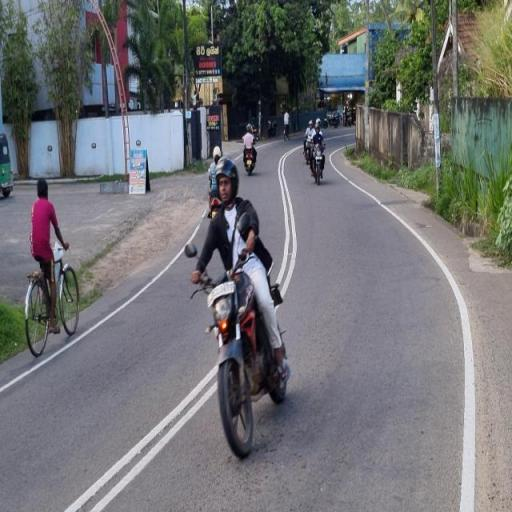double_white_line: (0, 149, 298, 394), (63, 363, 217, 511)
